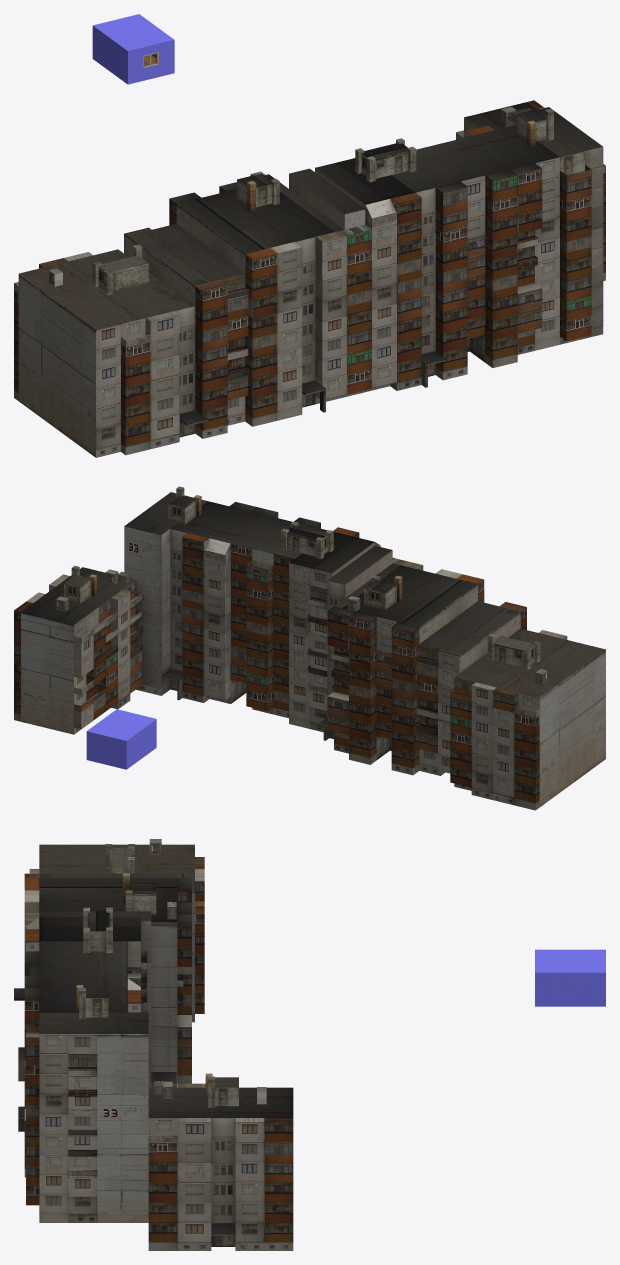
The model's file is Project_1774133058014_0321_2107.obj.
3 views of the same model, one above another, from view 1: azimuth 30°, elevation 25°; view 2: azimuth 150°, elevation 25°; view 3: azimuth 270°, elevation 25° (orthographic). The views are drawn at different scales.
Parts seen in each view (by area): view 1: object32, object23, object11, object9; view 2: object32, object23, object12, object9; view 3: object32, object10, object23.
Boxes of the visible parts, <box> form: object32: <box>14,100,605,457</box>; object23: <box>92,14,174,53</box>; object11: <box>128,42,174,81</box>; object9: <box>92,28,127,81</box>; object32: <box>14,486,605,810</box>; object23: <box>86,709,156,743</box>; object12: <box>86,734,126,767</box>; object9: <box>126,721,156,766</box>; object32: <box>14,839,293,1250</box>; object10: <box>535,975,605,1003</box>; object23: <box>535,949,605,975</box>.
Size of the model in its own units: 60.78 by 21.69 by 53.52.
